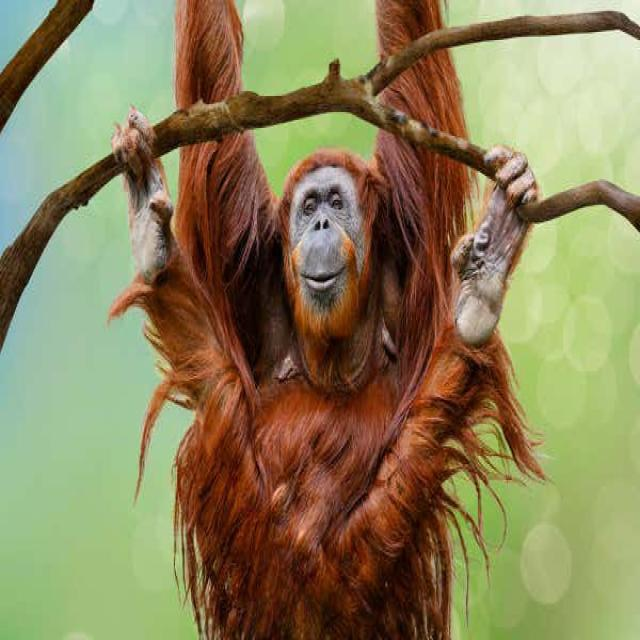Orangutan: (129, 8, 497, 640)
